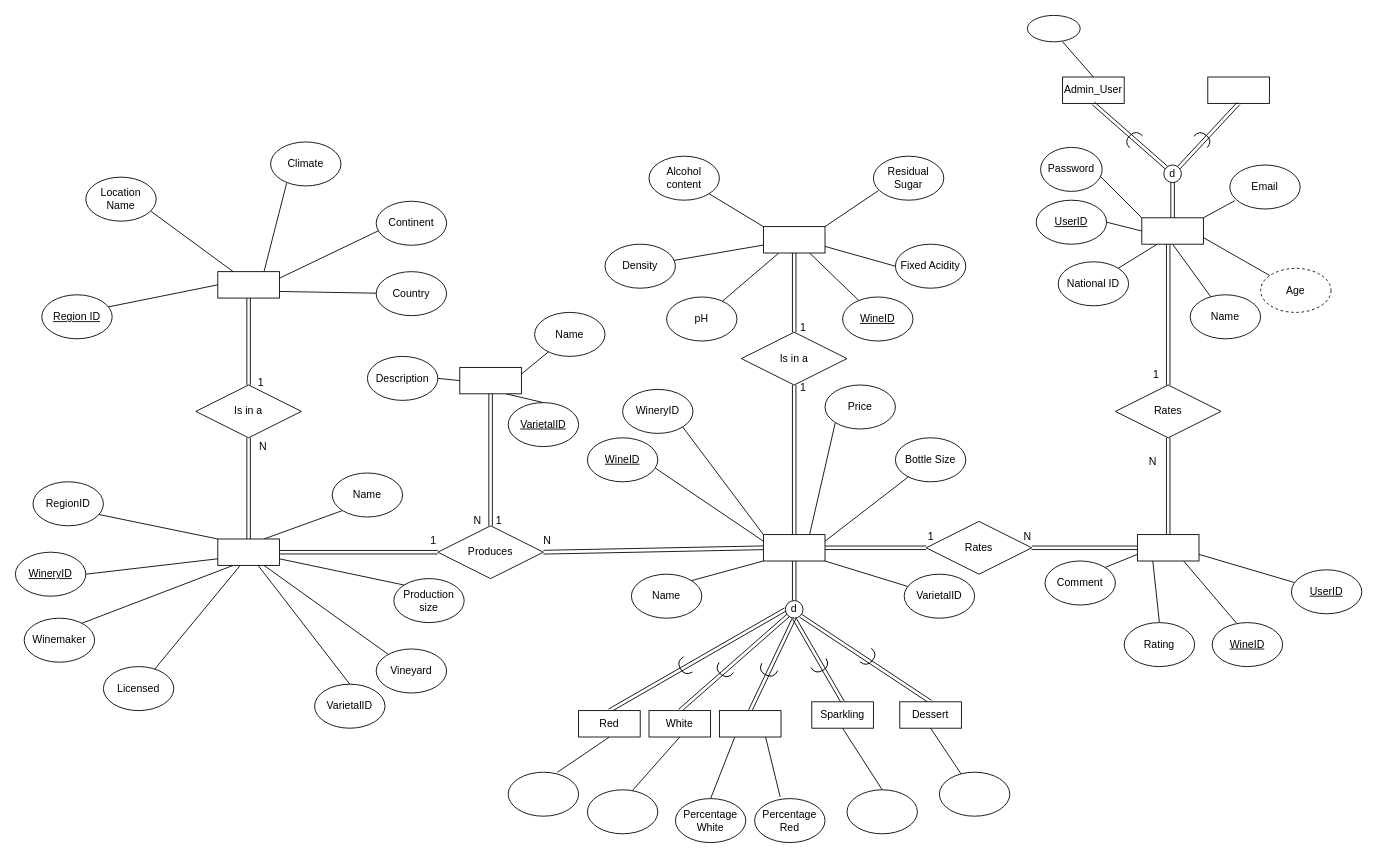
Image size: 1377x858. Some labels were removed from this diagram. The centre of each missing label's shape, as x and y in pixels:
"AdminID" goes at (1053,28).
"Carbon content" goes at (881,811).
"Grape Varietal" goes at (490,380).
"Novice" goes at (1238,89).
"Quality" goes at (794,239).
"Region" goes at (248,284).
"Reviews" goes at (1168,547).
"Rosé" goes at (750,723).
"Shade" goes at (622,811).
"Style" goes at (974,793).
"Tannin" goes at (543,793).
"Users" goes at (1172,230).
"Wine" goes at (794,547).
"Winery" goes at (248,551).
